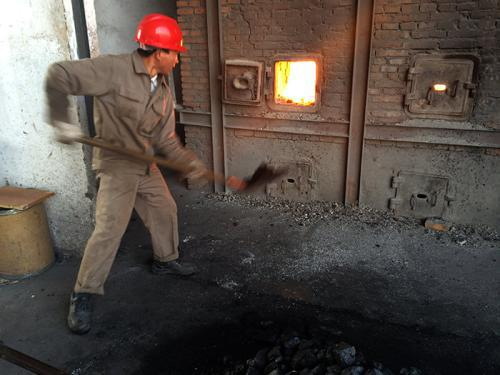helmet: (129, 10, 189, 79)
